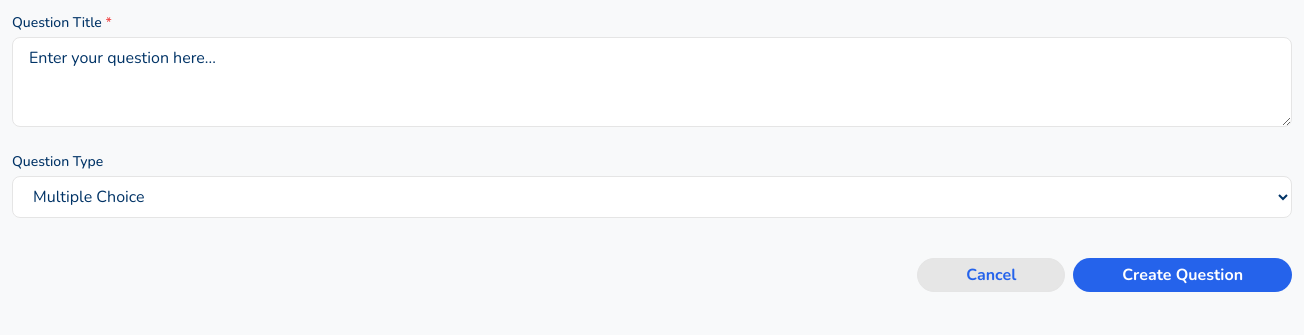
Test case: QuestionForm (Molecule) › Form validation › should show error for empty title
Step 1. Clear the text box labelled "Question Title *" → (652, 82), box x1=12 y1=37 x2=1292 y2=127
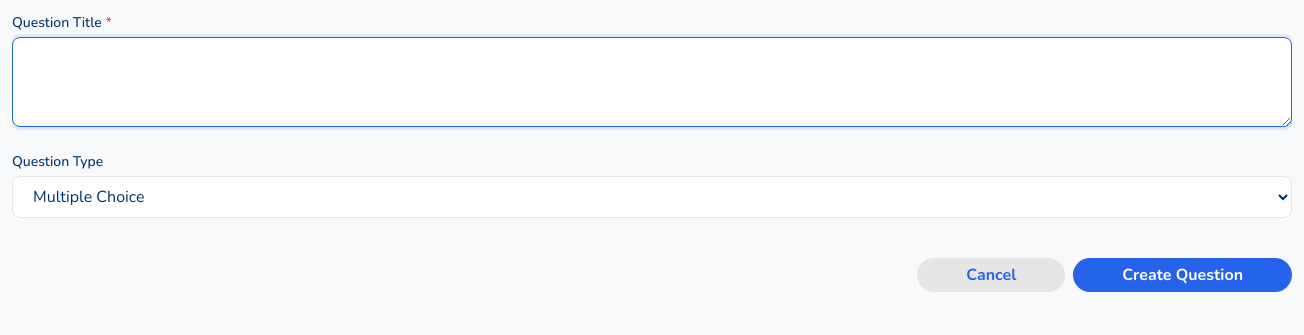
Step 2. Click the button "Create Question" → (1183, 275), box x1=1073 y1=258 x2=1292 y2=292
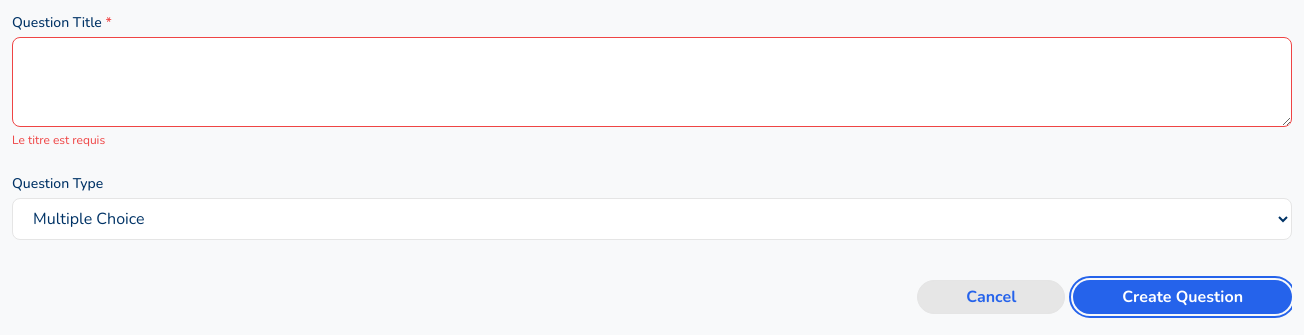
Check: the text "Le titre est requis" is shown, box x1=12 y1=132 x2=105 y2=148
